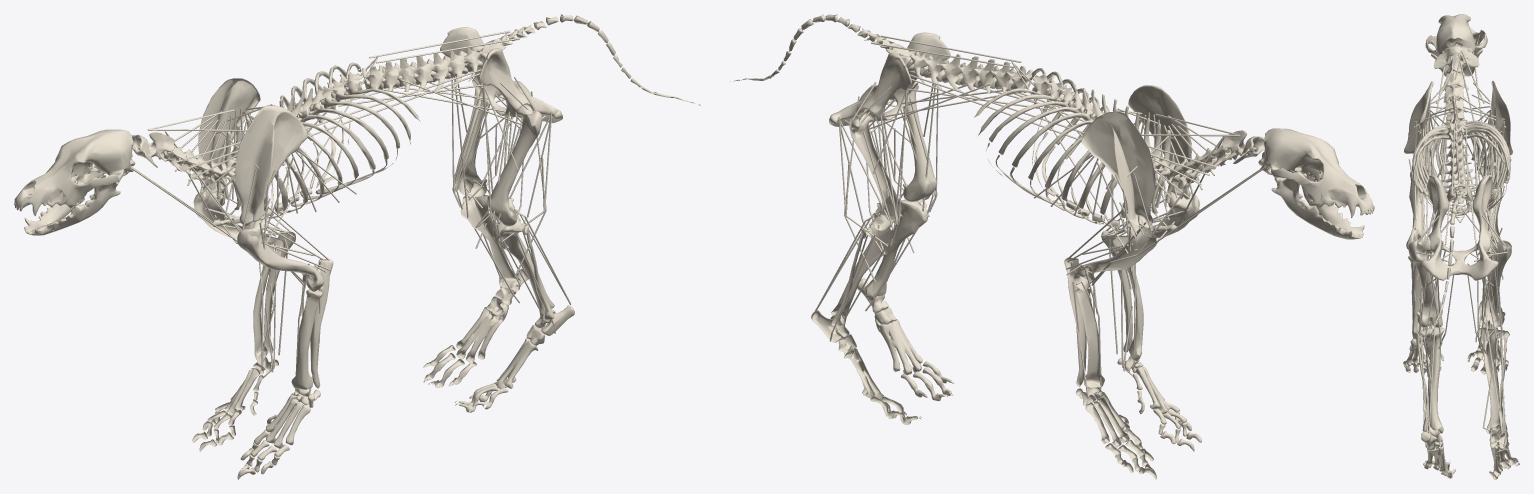
The model's file is canine-musculoskeletal-stark-quick-ef5f381a5cfe.glb.
The picture shows the model from 3 angles, left to right: view 1: azimuth 30°, elevation 25°; view 2: azimuth 150°, elevation 25°; view 3: azimuth 270°, elevation 25°; orthographic projection. The views are drawn at different scales.
Visible parts, largest first — view 1: thorax, caput, left-scapula, pelvis, abdomen, right-scapula, left-antebrachium, left-femur, cervix, right-calx, left-humerus, left-crus (+11 smaller); view 2: thorax, caput, right-scapula, pelvis, abdomen, left-scapula, right-antebrachium, cervix, right-femur, left-calx, right-crus, left-femur (+11 smaller); view 3: thorax, pelvis, caput, cervix, left-crus, right-crus, left-femur, right-femur, abdomen, left-scapula, right-scapula, cauda (+21 smaller).
Part boxes in pixels (x1=…): thorax: x1=213, y1=62, x2=420, y2=226; caput: x1=14, y1=129, x2=135, y2=235; left-scapula: x1=235, y1=105, x2=307, y2=226; pelvis: x1=440, y1=27, x2=562, y2=123; abdomen: x1=361, y1=47, x2=482, y2=91; right-scapula: x1=193, y1=78, x2=260, y2=197; left-antebrachium: x1=291, y1=259, x2=333, y2=389; left-femur: x1=487, y1=104, x2=542, y2=226; cervix: x1=132, y1=131, x2=227, y2=189; right-calx: x1=456, y1=269, x2=528, y2=363; left-humerus: x1=237, y1=219, x2=323, y2=291; left-crus: x1=493, y1=215, x2=554, y2=319; thorax: x1=974, y1=68, x2=1177, y2=231; caput: x1=1258, y1=128, x2=1374, y2=239; right-scapula: x1=1081, y1=111, x2=1155, y2=227; pelvis: x1=829, y1=32, x2=950, y2=126; abdomen: x1=908, y1=50, x2=1032, y2=93; left-scapula: x1=1128, y1=85, x2=1199, y2=199; right-antebrachium: x1=1064, y1=257, x2=1104, y2=388; cervix: x1=1167, y1=130, x2=1264, y2=188; right-femur: x1=849, y1=109, x2=902, y2=230; left-calx: x1=857, y1=278, x2=922, y2=375; right-crus: x1=831, y1=221, x2=896, y2=326; left-femur: x1=903, y1=81, x2=936, y2=201; thorax: x1=1412, y1=96, x2=1510, y2=217; pelvis: x1=1421, y1=175, x2=1498, y2=280; caput: x1=1425, y1=14, x2=1487, y2=76; cervix: x1=1433, y1=46, x2=1478, y2=124; left-crus: x1=1413, y1=327, x2=1444, y2=433; right-crus: x1=1478, y1=327, x2=1509, y2=433; left-femur: x1=1408, y1=238, x2=1442, y2=327; right-femur: x1=1479, y1=238, x2=1511, y2=327; abdomen: x1=1440, y1=130, x2=1478, y2=192; left-scapula: x1=1404, y1=81, x2=1433, y2=165; right-scapula: x1=1487, y1=80, x2=1512, y2=165; cauda: x1=1428, y1=185, x2=1473, y2=345.
Bounding box in the file's own units: 1.99 × 1.06 × 0.3584.
